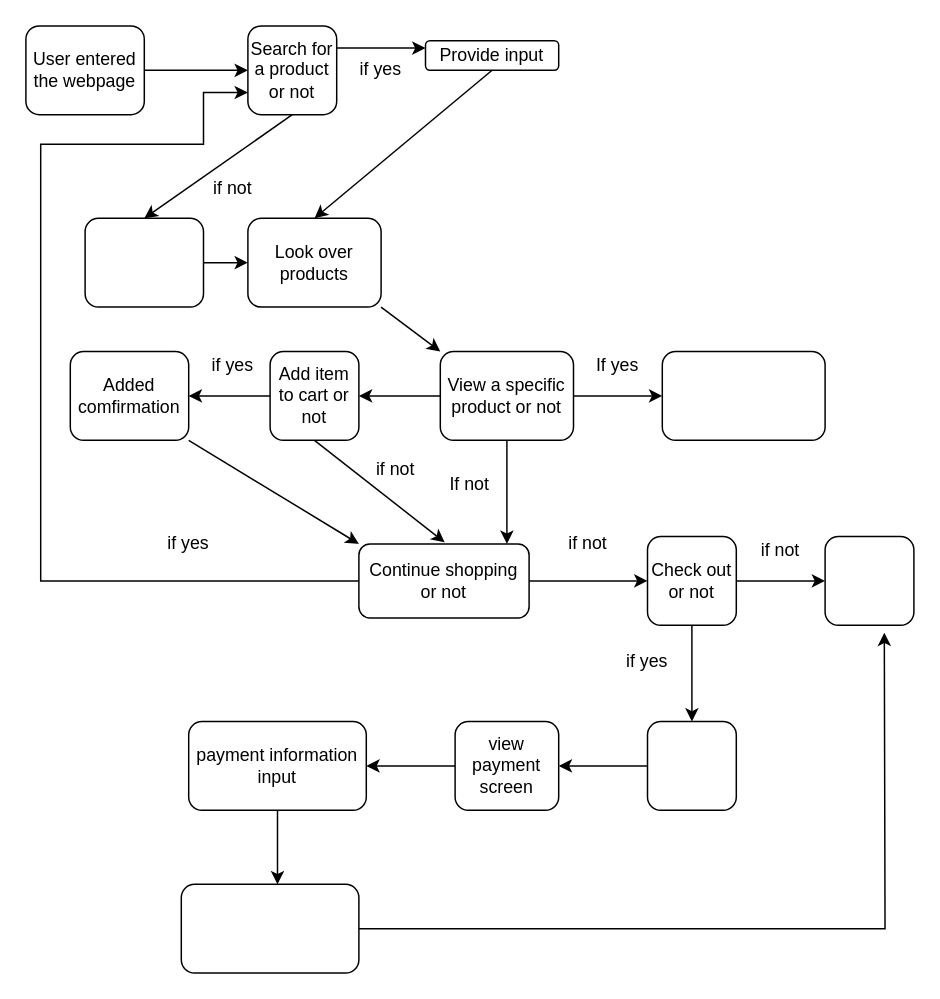
The diagram is 940 pixels wide and 999 high, and some of its shapes have lost their labels. Each missing label, with the centre of its shape:
"Explore on homepage" goes at [144,262].
"leave the website" goes at [869,580].
"open the product webpage" goes at [743,395].
"order confirmation screen and send an email to buyer" goes at [269,928].
"view cart screen" goes at [691,765].
